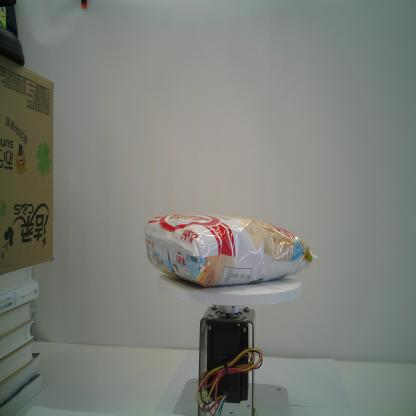Puffed Food: (143, 210, 318, 289)
